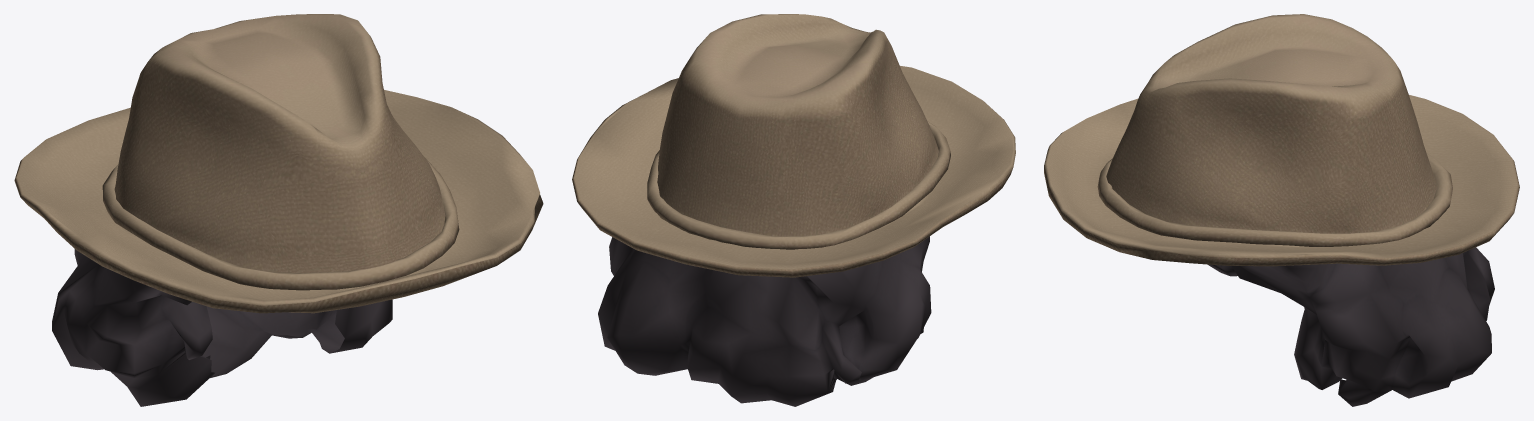
The picture shows the model from 3 angles, left to right: view 1: azimuth 30°, elevation 25°; view 2: azimuth 150°, elevation 25°; view 3: azimuth 270°, elevation 25°; orthographic projection. The views are drawn at different scales.
Visible parts, largest first — view 1: Wolf3D_Headwear; view 2: Wolf3D_Headwear; view 3: Wolf3D_Headwear.
Boxes of the visible parts, <box> form: Wolf3D_Headwear: <box>14,14,543,406</box>; Wolf3D_Headwear: <box>572,14,1015,406</box>; Wolf3D_Headwear: <box>1044,14,1519,406</box>.
Bounding box in the file's own units: 0.3069 × 0.2483 × 0.3367.
1 material, 1 textured.
